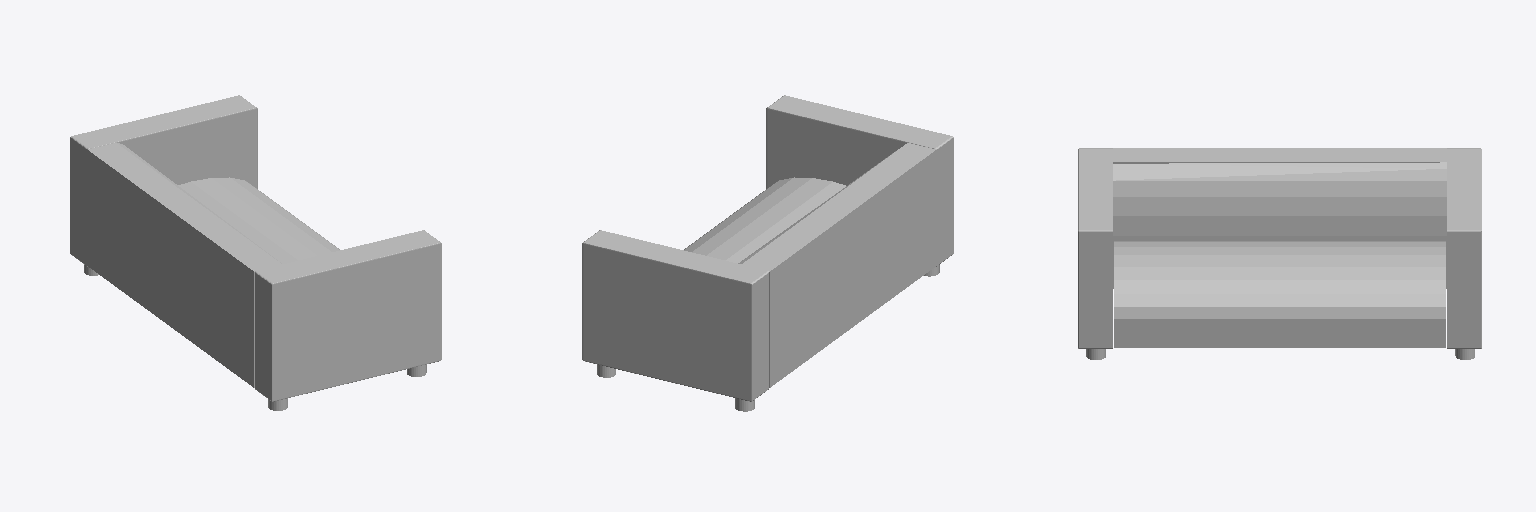
Rendered from KLIPPAN КЛИППАН.obj.
3 renders of one model, left to right at view 1: azimuth 30°, elevation 25°; view 2: azimuth 150°, elevation 25°; view 3: azimuth 270°, elevation 25°, orthographic.
Visible parts, largest first — view 1: Cube.003_Cube.004, Cube_Cube.005, Cube.001_Cube.002, Cube.002_Cube.006; view 2: Cube.001_Cube.002, Cube_Cube.005, Cube.003_Cube.004, Cube.002_Cube.006; view 3: Cube.002_Cube.006, Cube_Cube.005, Cube.001_Cube.002, Cube.003_Cube.004.
Part boxes in pixels (x1,y1,x2,y2): Cube.003_Cube.004: (255, 230, 441, 401); Cube_Cube.005: (87, 143, 281, 387); Cube.001_Cube.002: (70, 95, 257, 266); Cube.002_Cube.006: (178, 177, 339, 263); Cube.001_Cube.002: (582, 230, 768, 401); Cube_Cube.005: (738, 143, 936, 387); Cube.003_Cube.004: (766, 95, 953, 266); Cube.002_Cube.006: (684, 177, 845, 263); Cube.002_Cube.006: (1114, 241, 1445, 347); Cube_Cube.005: (1113, 148, 1446, 288); Cube.001_Cube.002: (1447, 148, 1481, 348); Cube.003_Cube.004: (1078, 148, 1112, 348).
Bounding box in the file's own units: 1.75 × 1.31 × 3.59.